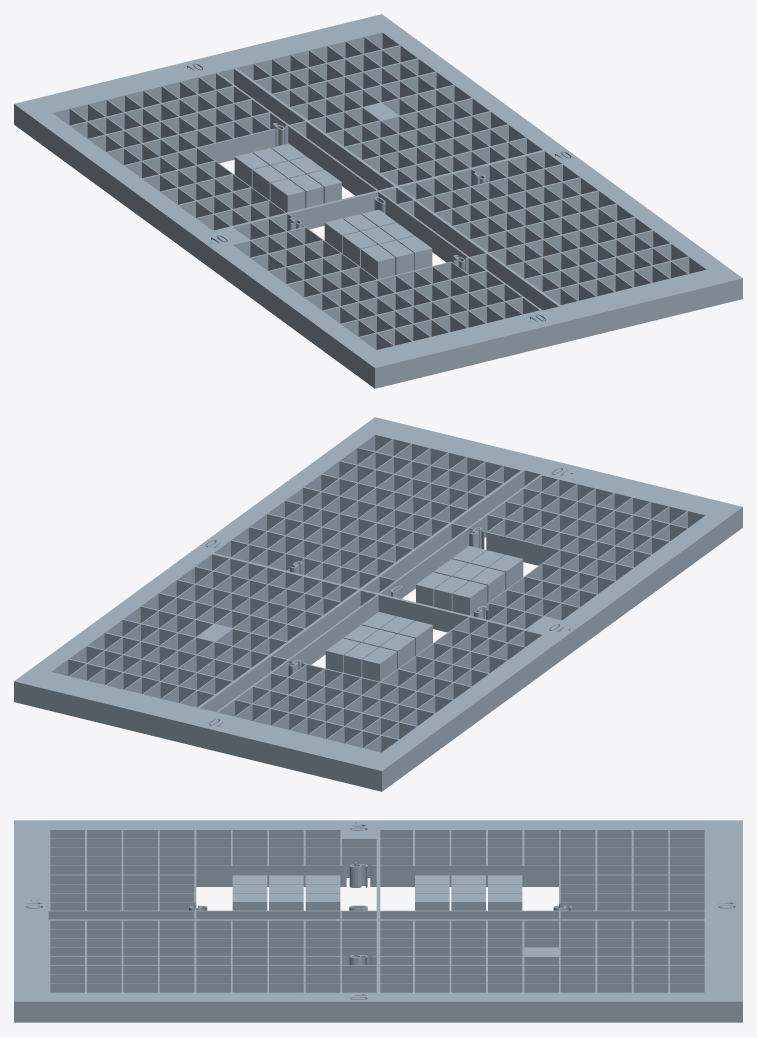
The picture shows the model from 3 angles, top to bottom: view 1: azimuth 30°, elevation 25°; view 2: azimuth 150°, elevation 25°; view 3: azimuth 270°, elevation 25°; orthographic projection.
Visible parts, largest first — view 1: Mesh_Mesh_head_geo.001_lambert2SG.001; view 2: Mesh_Mesh_head_geo.001_lambert2SG.001; view 3: Mesh_Mesh_head_geo.001_lambert2SG.001.
Boxes of the visible parts, left/top/right/bottom form: Mesh_Mesh_head_geo.001_lambert2SG.001: left=14, top=14, right=742, bottom=388; Mesh_Mesh_head_geo.001_lambert2SG.001: left=14, top=417, right=742, bottom=791; Mesh_Mesh_head_geo.001_lambert2SG.001: left=14, top=820, right=742, bottom=1022.
Size of the model in its own units: 186 by 10 by 316.
